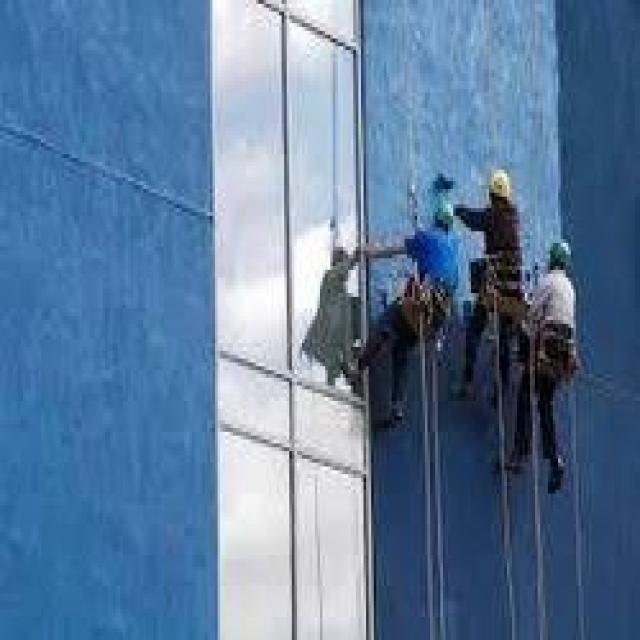Painting: (248, 42, 640, 594)
